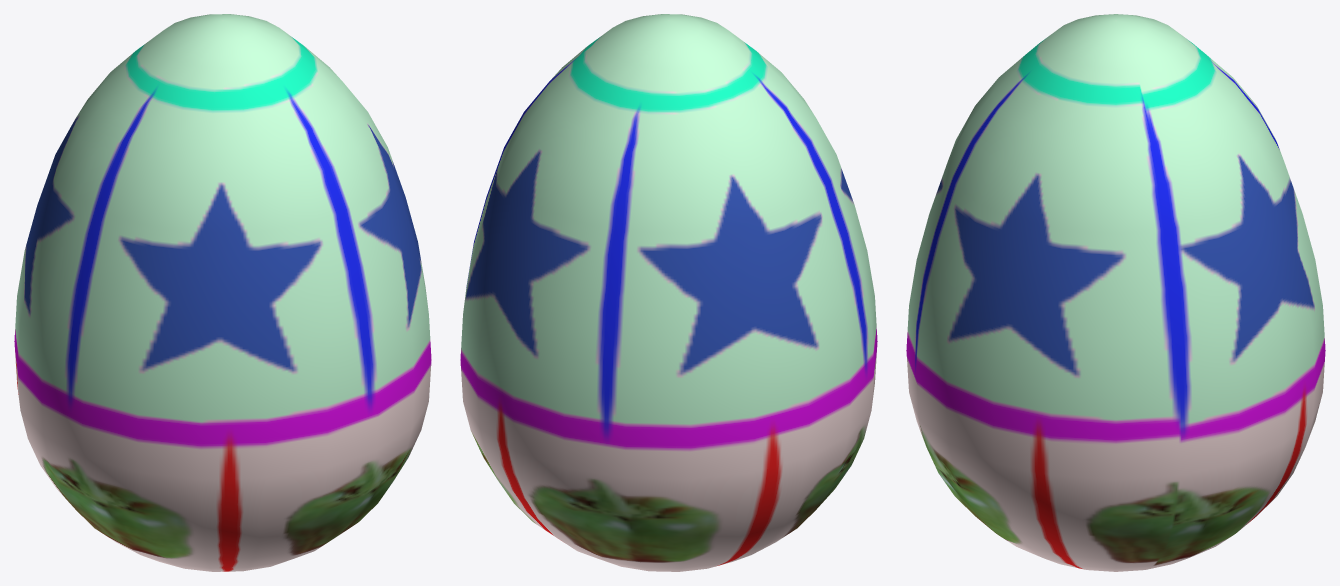
The model's file is Easteregg.fbx.
3 renders of one model, left to right at view 1: azimuth 30°, elevation 25°; view 2: azimuth 150°, elevation 25°; view 3: azimuth 270°, elevation 25°, orthographic.
Parts seen in each view (by area): view 1: pSphere1; view 2: pSphere1; view 3: pSphere1.
Boxes of the visible parts, x1=… form: pSphere1: x1=14, y1=14, x2=431, y2=571; pSphere1: x1=460, y1=14, x2=877, y2=571; pSphere1: x1=906, y1=14, x2=1325, y2=571.
Size of the model in its own units: 2 by 2.8 by 2.
1 material, 1 textured.
